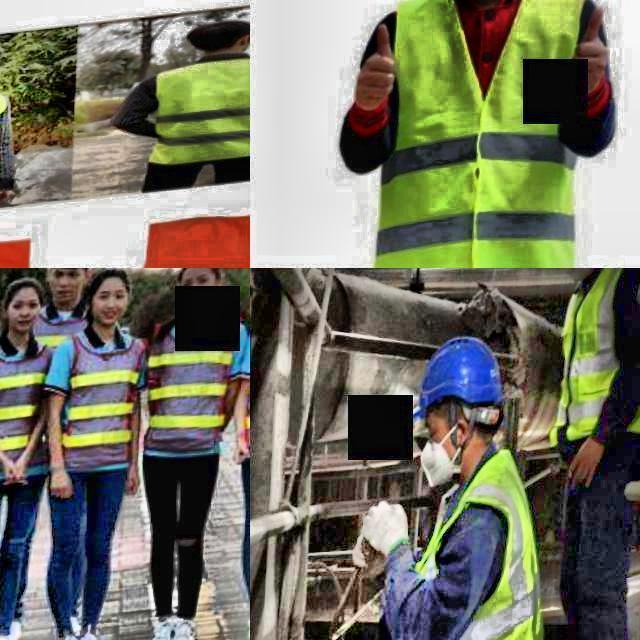safety_jacket: (363, 0, 613, 268), (398, 451, 561, 640), (535, 268, 640, 445), (50, 328, 160, 466), (144, 53, 250, 167), (142, 322, 244, 436), (0, 333, 64, 473)
